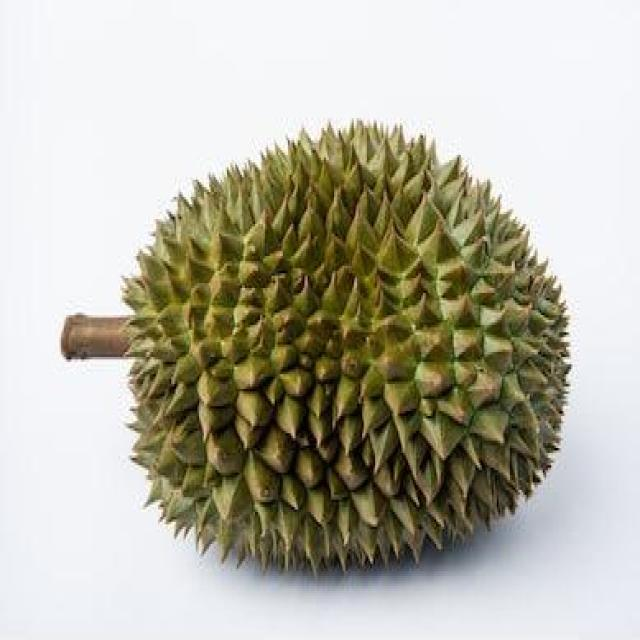mature: (118, 112, 574, 576)
